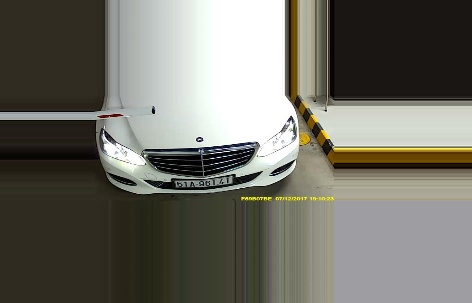plate: (173, 176, 236, 188)
